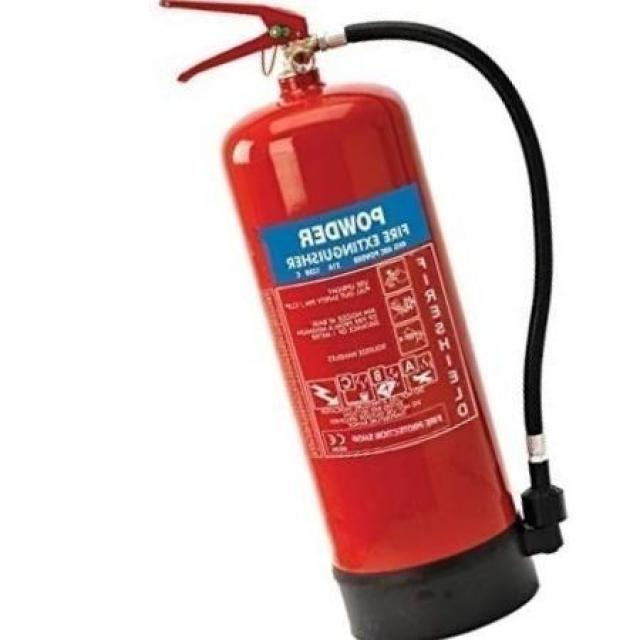fire_extinguisher: (156, 0, 572, 639)
